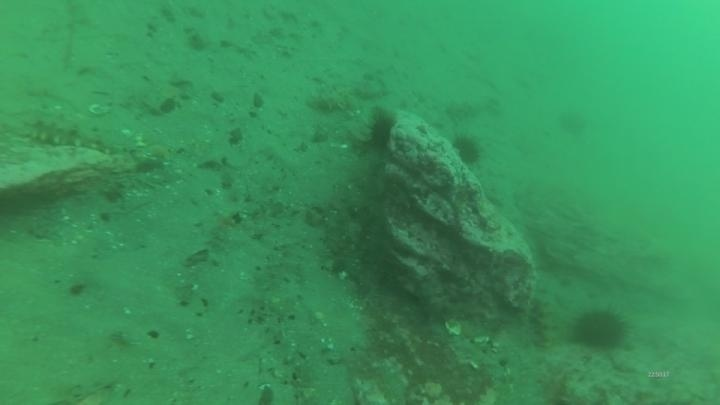echinus: (569, 305, 631, 353), (364, 109, 400, 155), (450, 132, 485, 168), (555, 106, 590, 138)
holothurian: (17, 111, 117, 157), (525, 284, 559, 350), (305, 86, 360, 115), (442, 95, 493, 122)
